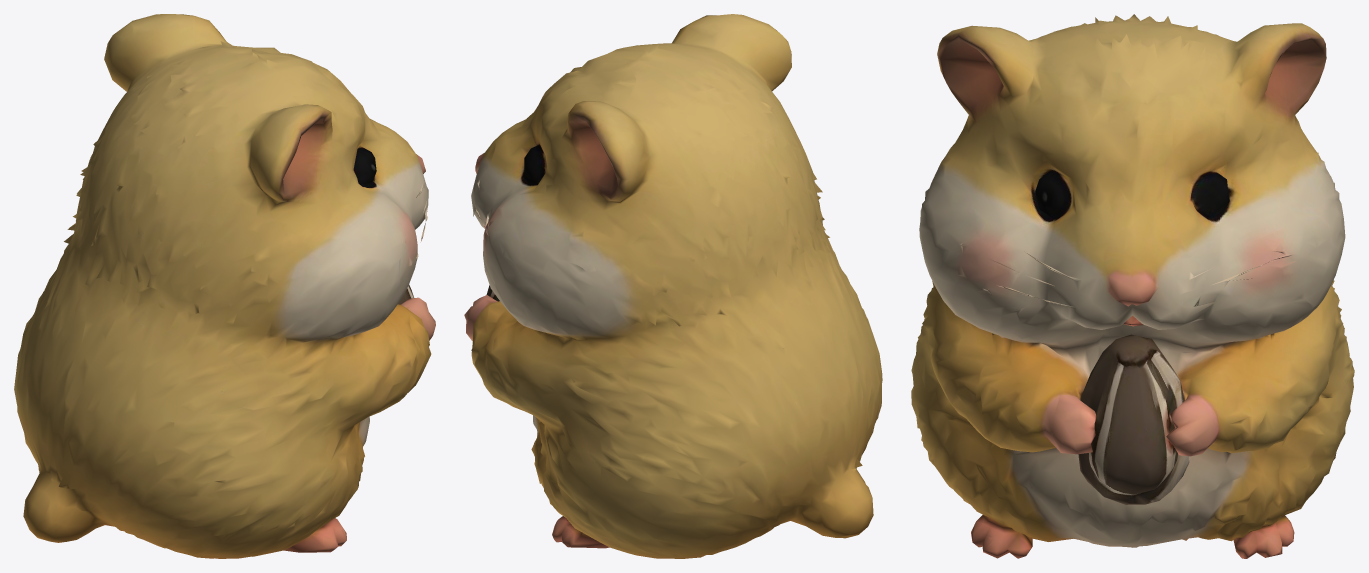
Rendered from hamster.glb.
3 views of the same model, side by side, from view 1: azimuth 30°, elevation 25°; view 2: azimuth 150°, elevation 25°; view 3: azimuth 270°, elevation 25° (orthographic). The views are drawn at different scales.
Parts seen in each view (by area): view 1: tripo_node_52b67558-1c48-4a6c-99ae-5401112b09c9; view 2: tripo_node_52b67558-1c48-4a6c-99ae-5401112b09c9; view 3: tripo_node_52b67558-1c48-4a6c-99ae-5401112b09c9.
Part boxes in pixels (left/top/right/bottom): tripo_node_52b67558-1c48-4a6c-99ae-5401112b09c9: left=14, top=14, right=435, bottom=558; tripo_node_52b67558-1c48-4a6c-99ae-5401112b09c9: left=464, top=14, right=882, bottom=558; tripo_node_52b67558-1c48-4a6c-99ae-5401112b09c9: left=911, top=14, right=1354, bottom=558.
Bounding box in the file's own units: 0.9135 × 1 × 0.7915.
1 material, 1 textured.
